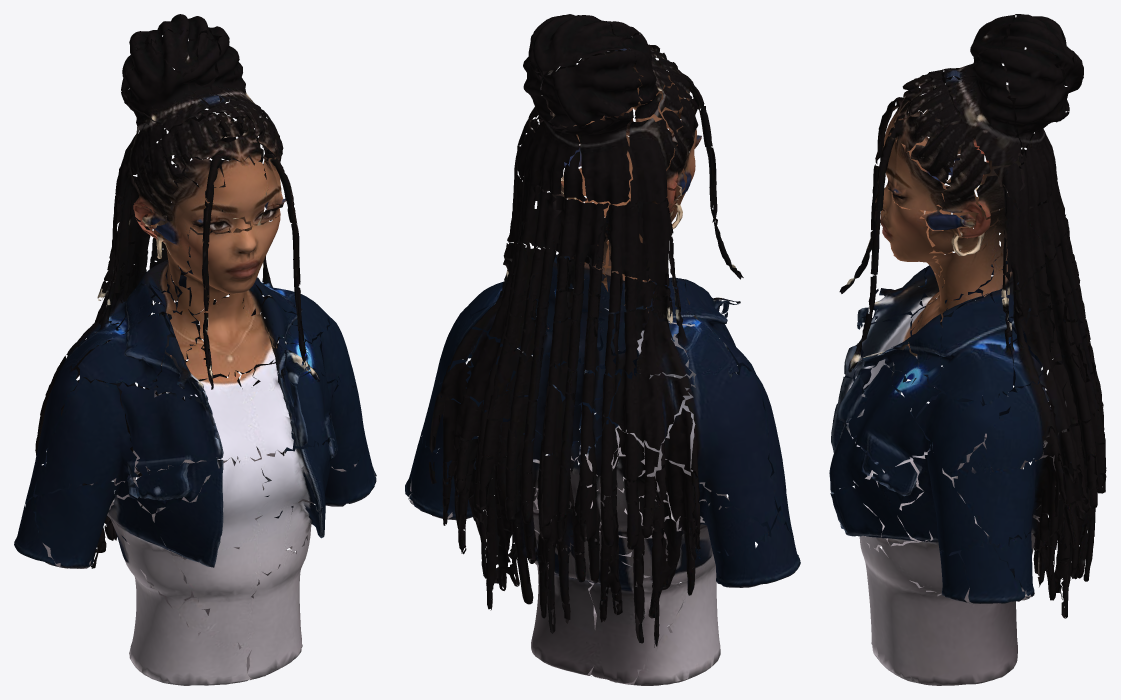
File: navi_bust_balanced.glb
3 views of the same model, side by side, from view 1: azimuth 30°, elevation 25°; view 2: azimuth 150°, elevation 25°; view 3: azimuth 270°, elevation 25° (orthographic). The views are drawn at different scales.
Visible parts, largest first — view 1: Navi_Bust_Static_NoFacialRig; view 2: Navi_Bust_Static_NoFacialRig; view 3: Navi_Bust_Static_NoFacialRig.
Boxes of the visible parts, box(x1,y1,x2,y2) form: Navi_Bust_Static_NoFacialRig: box(14, 14, 376, 685); Navi_Bust_Static_NoFacialRig: box(405, 14, 800, 685); Navi_Bust_Static_NoFacialRig: box(829, 14, 1106, 685).
Bounding box in the file's own units: 1.15 × 1.9 × 0.7571.
Materials: 1 (1 with a texture image).
